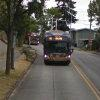Bus: (39, 26, 79, 73)
